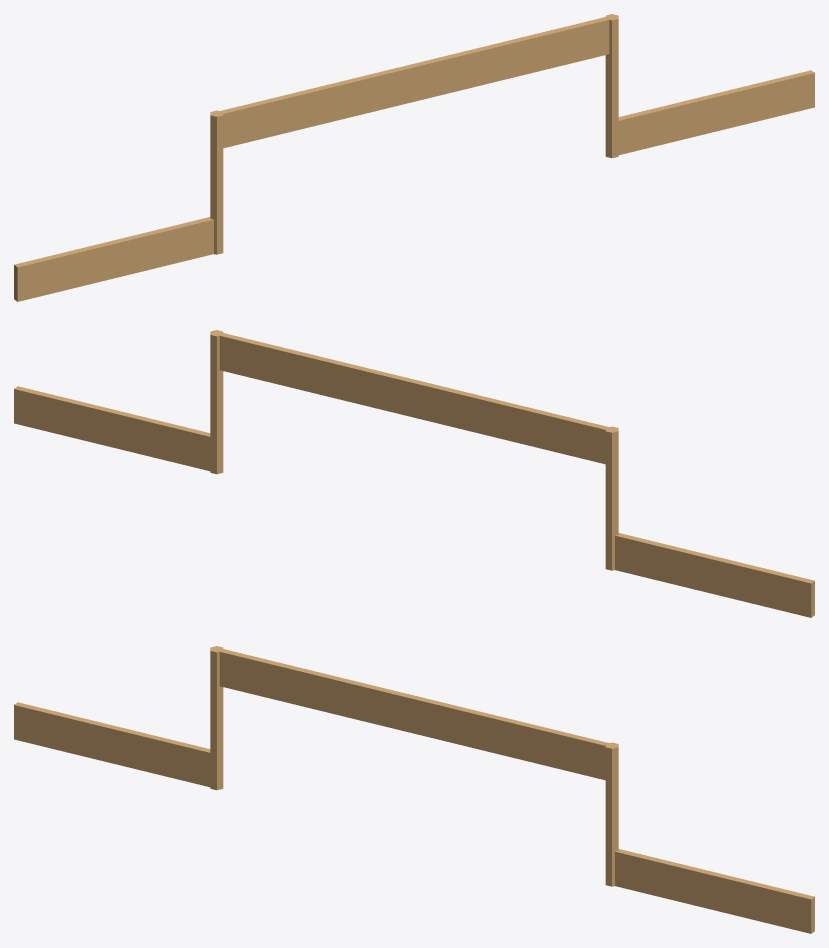
The model's file is board.glb.
3 views of the same model, one above another, from view 1: azimuth 30°, elevation 25°; view 2: azimuth 150°, elevation 25°; view 3: azimuth 330°, elevation 25° (orthographic).
Visible parts, largest first — view 1: Unified_Net_1_Island_10, Unified_Net_1_Island_8, Unified_Net_1_Island_9, Via_Polygon_1, Via_Polygon_0; view 2: Unified_Net_1_Island_10, Unified_Net_1_Island_8, Unified_Net_1_Island_9, Via_Polygon_1, Via_Polygon_0; view 3: Unified_Net_1_Island_10, Unified_Net_1_Island_9, Unified_Net_1_Island_8, Via_Polygon_1, Via_Polygon_0.
Part boxes in pixels (x1,y1,x2,y2): Unified_Net_1_Island_10: [215, 15, 616, 148]; Unified_Net_1_Island_8: [14, 217, 213, 301]; Unified_Net_1_Island_9: [618, 70, 814, 155]; Via_Polygon_1: [605, 20, 618, 158]; Via_Polygon_0: [210, 116, 223, 254]; Unified_Net_1_Island_10: [212, 332, 614, 464]; Unified_Net_1_Island_8: [615, 533, 814, 617]; Unified_Net_1_Island_9: [14, 386, 210, 471]; Via_Polygon_1: [210, 336, 223, 474]; Via_Polygon_0: [605, 433, 618, 569]; Unified_Net_1_Island_10: [212, 647, 614, 780]; Unified_Net_1_Island_9: [615, 849, 814, 933]; Unified_Net_1_Island_8: [14, 702, 210, 787]; Via_Polygon_1: [605, 748, 618, 886]; Via_Polygon_0: [210, 652, 223, 790].
Bounding box in the file's own units: 0.00121 × 0.0002 × 1.73e-05.
